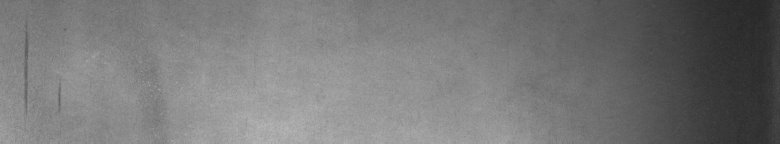ka: (20, 31, 64, 112)
